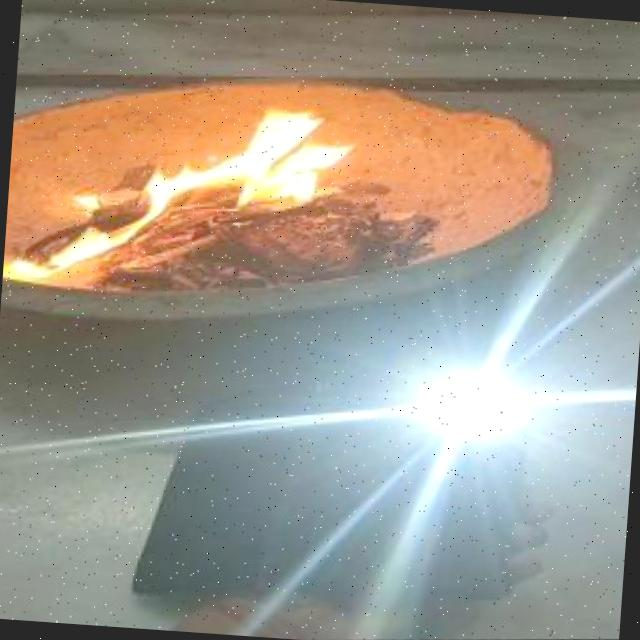fire: (44, 92, 359, 284)
